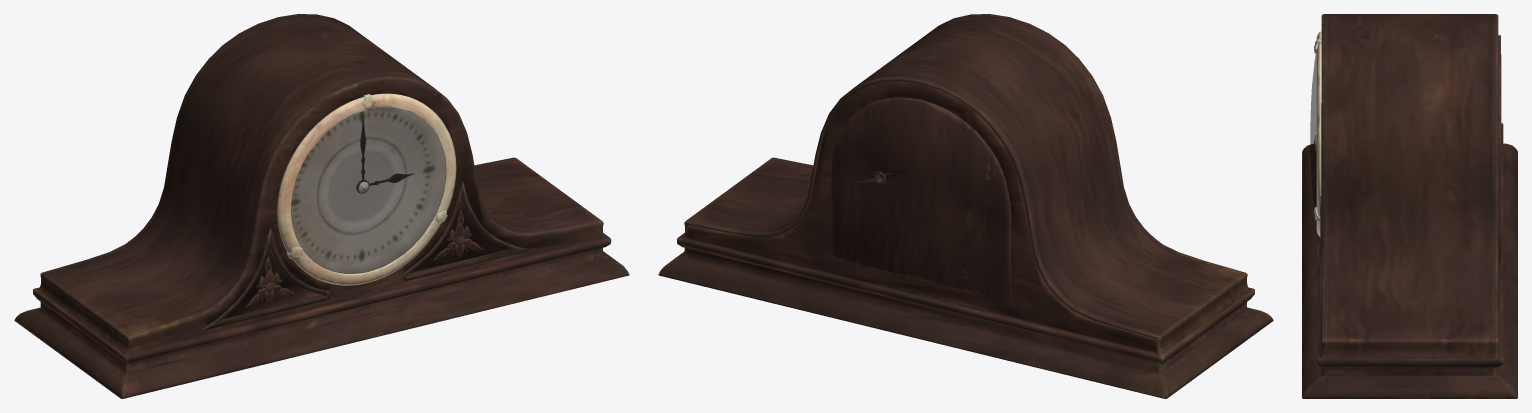
Rendered from mantel_clock_01.glb.
The picture shows the model from 3 angles, left to right: view 1: azimuth 30°, elevation 25°; view 2: azimuth 150°, elevation 25°; view 3: azimuth 270°, elevation 25°; orthographic projection.
Parts seen in each view (by area): view 1: mantel_clock_01, mantel_clock_01_glass; view 2: mantel_clock_01; view 3: mantel_clock_01, mantel_clock_01_glass.
Part boxes in pixels (x1=…): mantel_clock_01: x1=14, y1=14, x2=629, y2=398; mantel_clock_01_glass: x1=291, y1=107, x2=445, y2=273; mantel_clock_01: x1=658, y1=14, x2=1273, y2=398; mantel_clock_01: x1=1302, y1=14, x2=1517, y2=398; mantel_clock_01_glass: x1=1310, y1=53, x2=1316, y2=207.
Bounding box in the file's own units: 0.3423 × 0.1604 × 0.126.
Materials: 2 (2 with a texture image).
